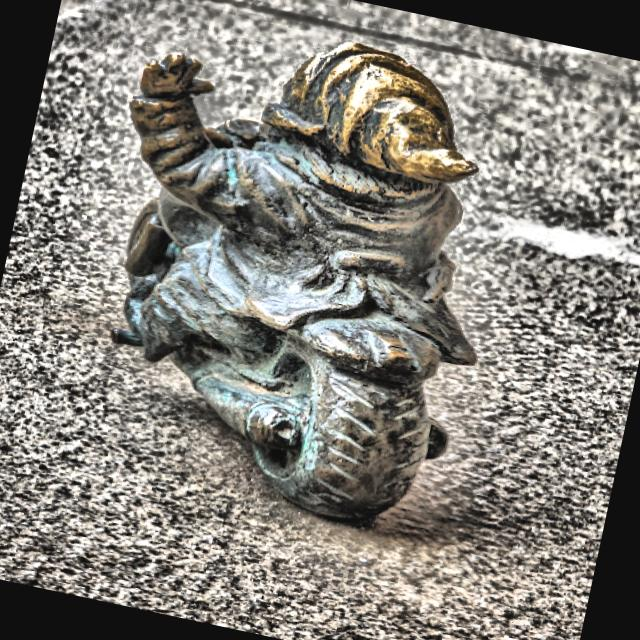Wentyl: (113, 43, 476, 519)
